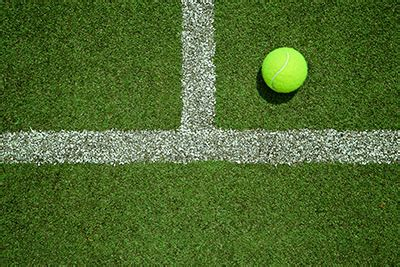tennis_ball: (261, 46, 308, 93)
